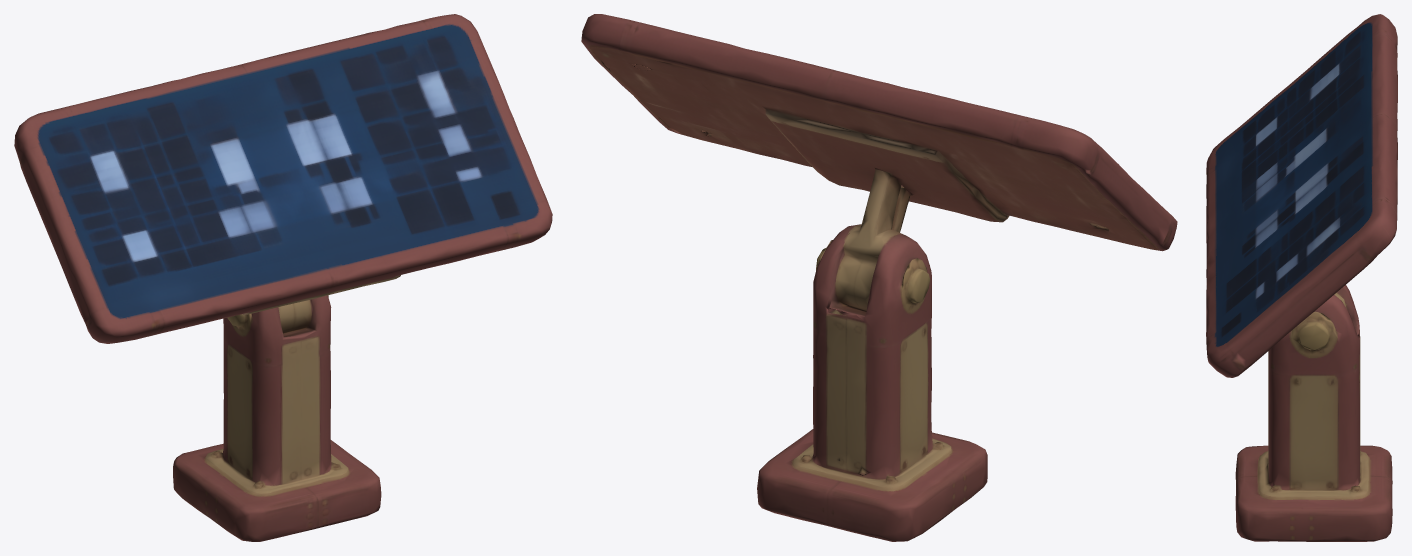
The model's file is solnechnaya-batareya.glb.
3 renders of one model, left to right at view 1: azimuth 30°, elevation 25°; view 2: azimuth 150°, elevation 25°; view 3: azimuth 270°, elevation 25°, orthographic. The views are drawn at different scales.
Parts seen in each view (by area): view 1: geometry_0; view 2: geometry_0; view 3: geometry_0.
Boxes of the visible parts, x1,y1,x2,y2 form: geometry_0: (14,14,552,541); geometry_0: (581,14,1177,541); geometry_0: (1206,14,1397,541).
Size of the model in its own units: 1 by 0.8633 by 0.3761.
1 material, 1 textured.
